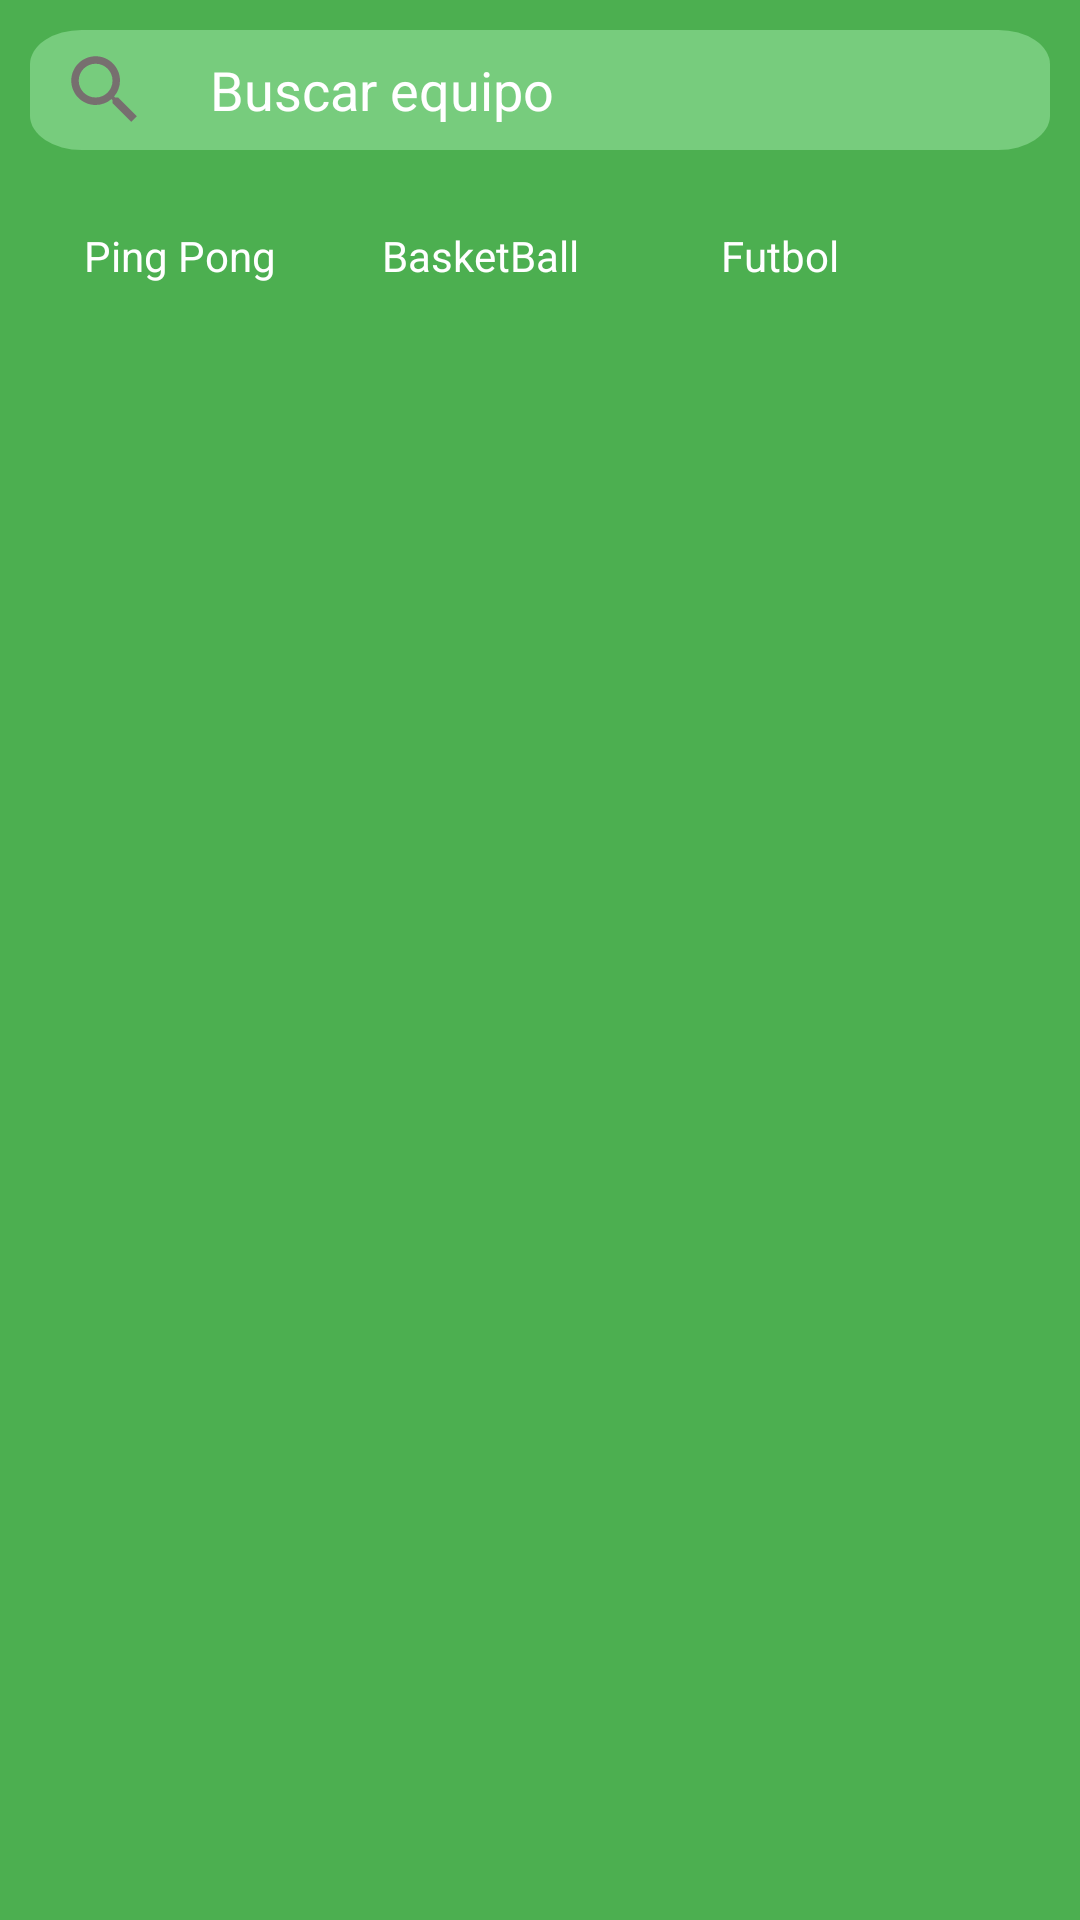

Where to tap for icons on this 1080 x 1920 app screen, as [x,y]:
search: [104,89]
